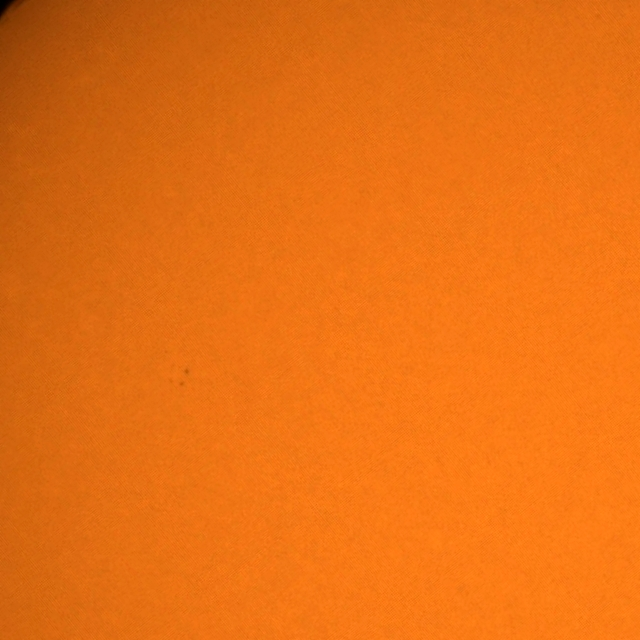sunspot: (168, 366, 190, 388)
